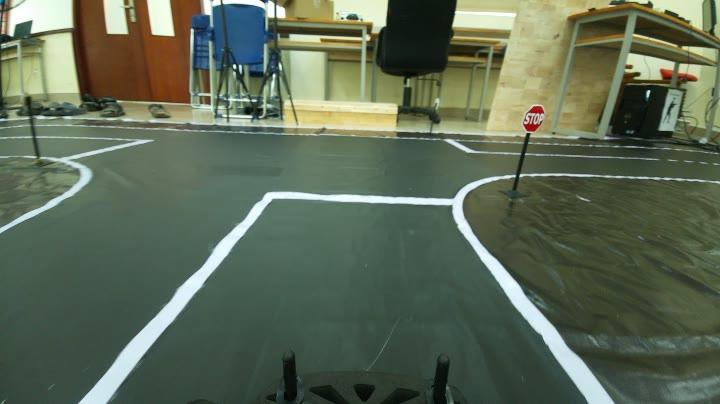stop: (516, 102, 550, 134)
